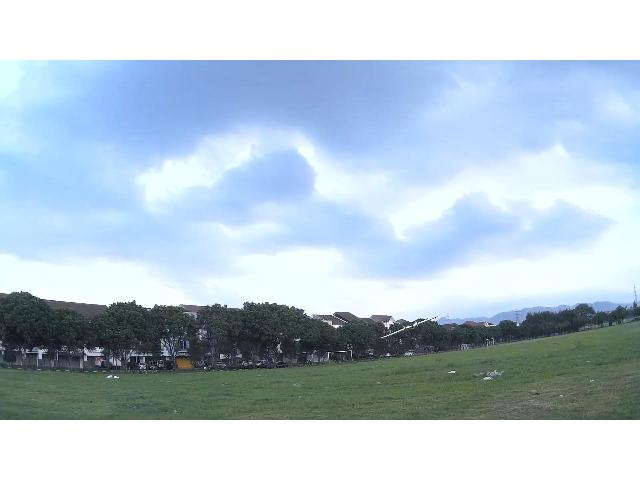Anti-Drone: (379, 314, 439, 338)
